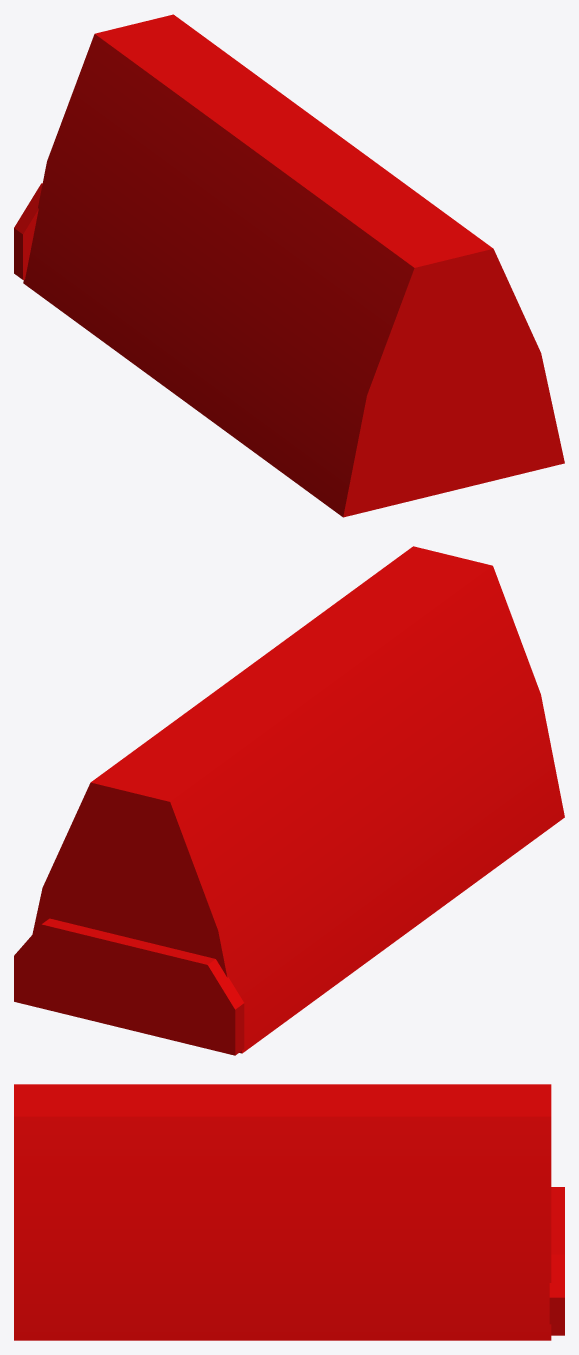
Rendered from TaxiTopper.fbx.
3 renders of one model, top to bottom at view 1: azimuth 30°, elevation 25°; view 2: azimuth 150°, elevation 25°; view 3: azimuth 270°, elevation 25°, orthographic. The views are drawn at different scales.
Parts seen in each view (by area): view 1: pCube82, pCube83; view 2: pCube82, pCube83; view 3: pCube82, pCube83.
Boxes of the visible parts, left/top/right/bottom form: pCube82: left=23, top=14, right=564, bottom=517; pCube83: left=14, top=183, right=42, bottom=279; pCube82: left=32, top=546, right=564, bottom=1053; pCube83: left=14, top=918, right=244, bottom=1055; pCube82: left=14, top=1084, right=551, bottom=1340; pCube83: left=549, top=1187, right=564, bottom=1335.
Size of the model in its own units: 1.71 by 1.7 by 4.35.
